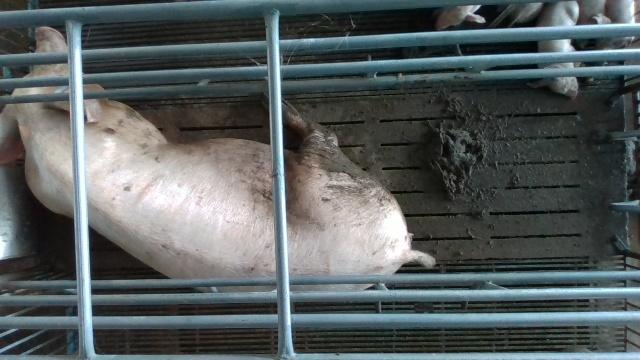piglet: (536, 0, 579, 100), (593, 0, 636, 49)
sow-sit: (0, 26, 435, 292)
